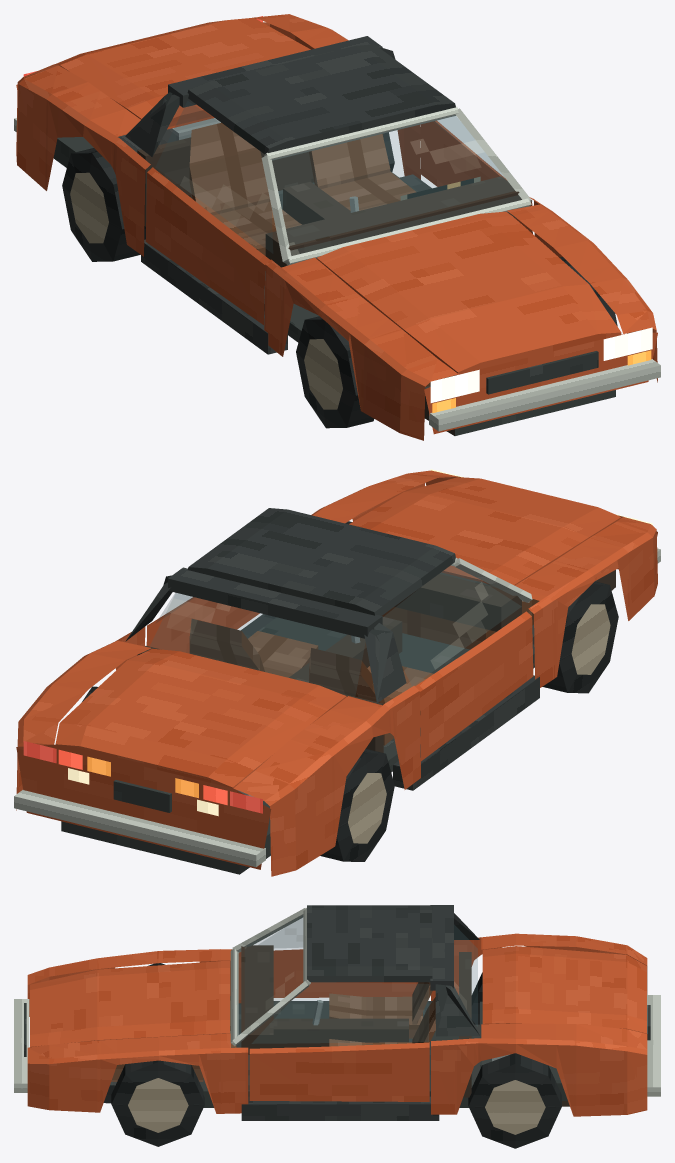
File: torrel-1968-mid.glb
3 views of the same model, one above another, from view 1: azimuth 30°, elevation 25°; view 2: azimuth 150°, elevation 25°; view 3: azimuth 270°, elevation 25° (orthographic). The views are drawn at different scales.
Parts seen in each view (by area): view 1: body, hood, door_r, roof_panel, trunk, wheel_rr, wheel_fr, door_l, light_head_l, light_head_r; view 2: body, trunk, door_r, roof_panel, hood, wheel_fr, wheel_rr, door_l; view 3: body, door_l, hood, trunk, roof_panel, wheel_rl, wheel_fl, door_r, wheel_rr.
Boxes of the visible parts, box(x1,y1,x2,y2) form: body: box(14, 14, 660, 440); hood: box(316, 211, 621, 375); door_r: box(145, 101, 272, 324); roof_panel: box(187, 44, 455, 154); trunk: box(55, 17, 310, 129); wheel_rr: box(62, 148, 145, 261); wheel_fr: box(296, 316, 373, 428); door_l: box(420, 116, 532, 233); light_head_l: box(603, 327, 652, 360); light_head_r: box(430, 369, 479, 402); body: box(14, 470, 660, 876); trunk: box(55, 648, 346, 790); door_r: box(383, 565, 533, 761); roof_panel: box(187, 508, 455, 615); hood: box(349, 477, 621, 585); wheel_fr: box(542, 581, 618, 693); wheel_rr: box(320, 749, 394, 861); door_l: box(146, 593, 259, 653); body: box(14, 905, 660, 1120); door_l: box(249, 982, 429, 1101); hood: box(30, 961, 229, 1047); trunk: box(482, 946, 646, 1033); roof_panel: box(307, 905, 432, 982); wheel_rl: box(468, 1053, 561, 1148); wheel_fl: box(111, 1060, 204, 1146); door_r: box(259, 917, 417, 997); wheel_rr: box(471, 972, 482, 1024).
Size of the model in its own units: 1.69 by 1.13 by 4.19.
Materials: 5 (5 with a texture image).
